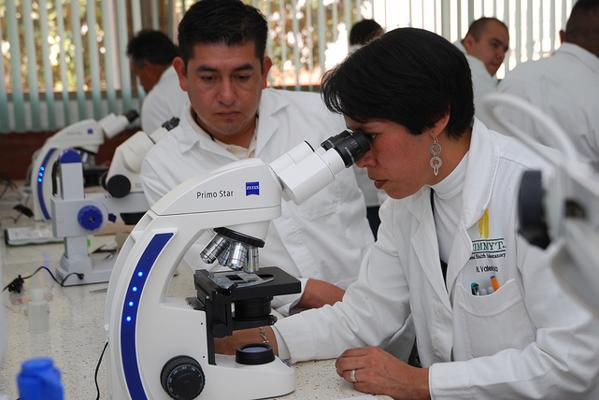person: (212, 28, 599, 400)
